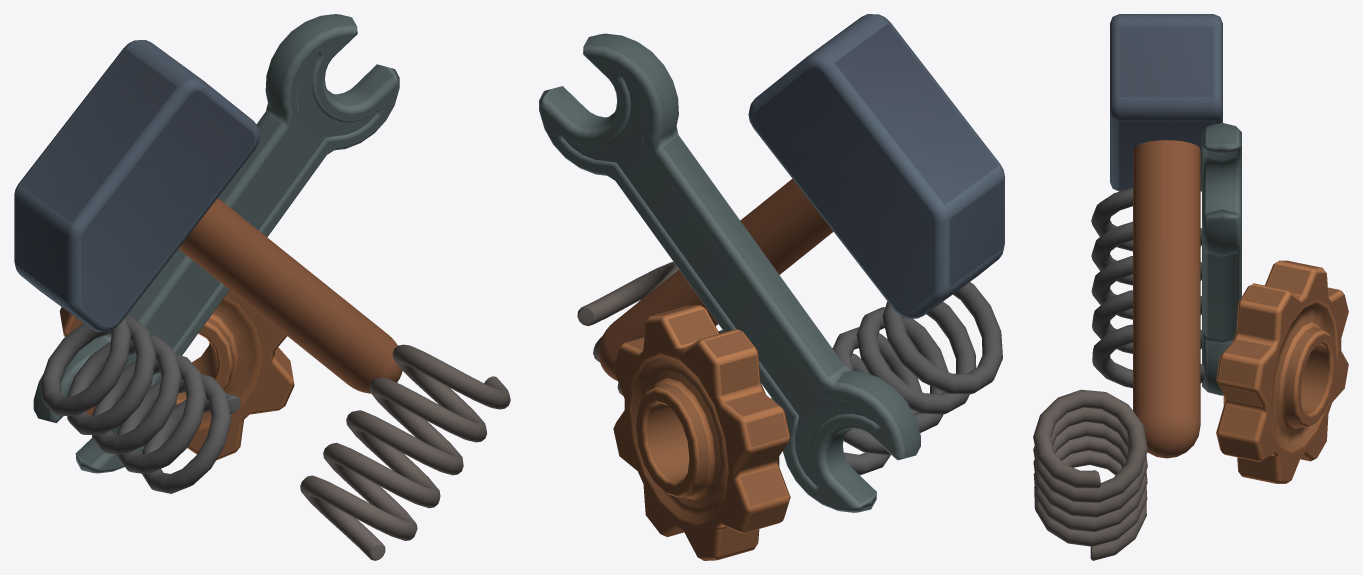
The model's file is SM_Repair_Icon.fbx.
3 views of the same model, side by side, from view 1: azimuth 30°, elevation 25°; view 2: azimuth 150°, elevation 25°; view 3: azimuth 270°, elevation 25° (orthographic). The views are drawn at different scales.
Visible parts, largest first — view 1: SM_Repair_Icon; view 2: SM_Repair_Icon; view 3: SM_Repair_Icon.
Boxes of the visible parts, <box> form: SM_Repair_Icon: <box>14,14,510,560</box>; SM_Repair_Icon: <box>539,14,1004,560</box>; SM_Repair_Icon: <box>1033,14,1348,560</box>.
Bounding box in the file's own units: 94.06 × 109 × 66.94.
1 material, 1 textured.
